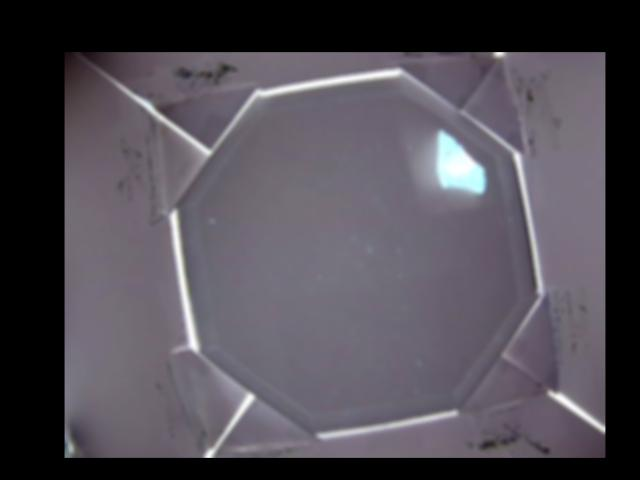Brisk: (439, 129, 485, 193)
